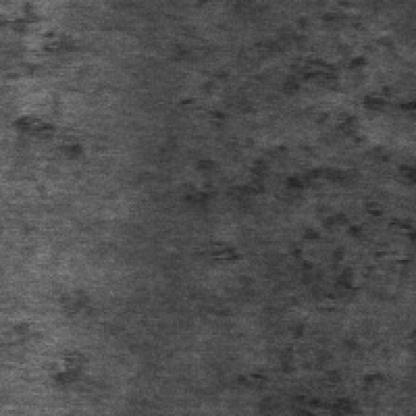rolled-in_scale: (274, 85, 416, 408), (183, 54, 268, 266), (274, 8, 408, 140), (12, 102, 100, 170)
